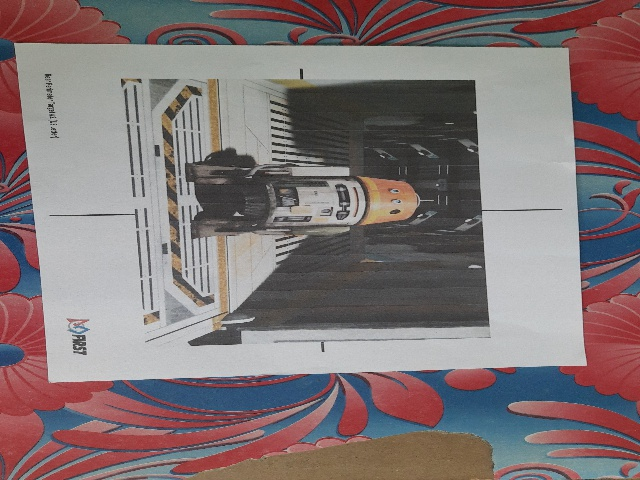rept2: (21, 51, 597, 355)
